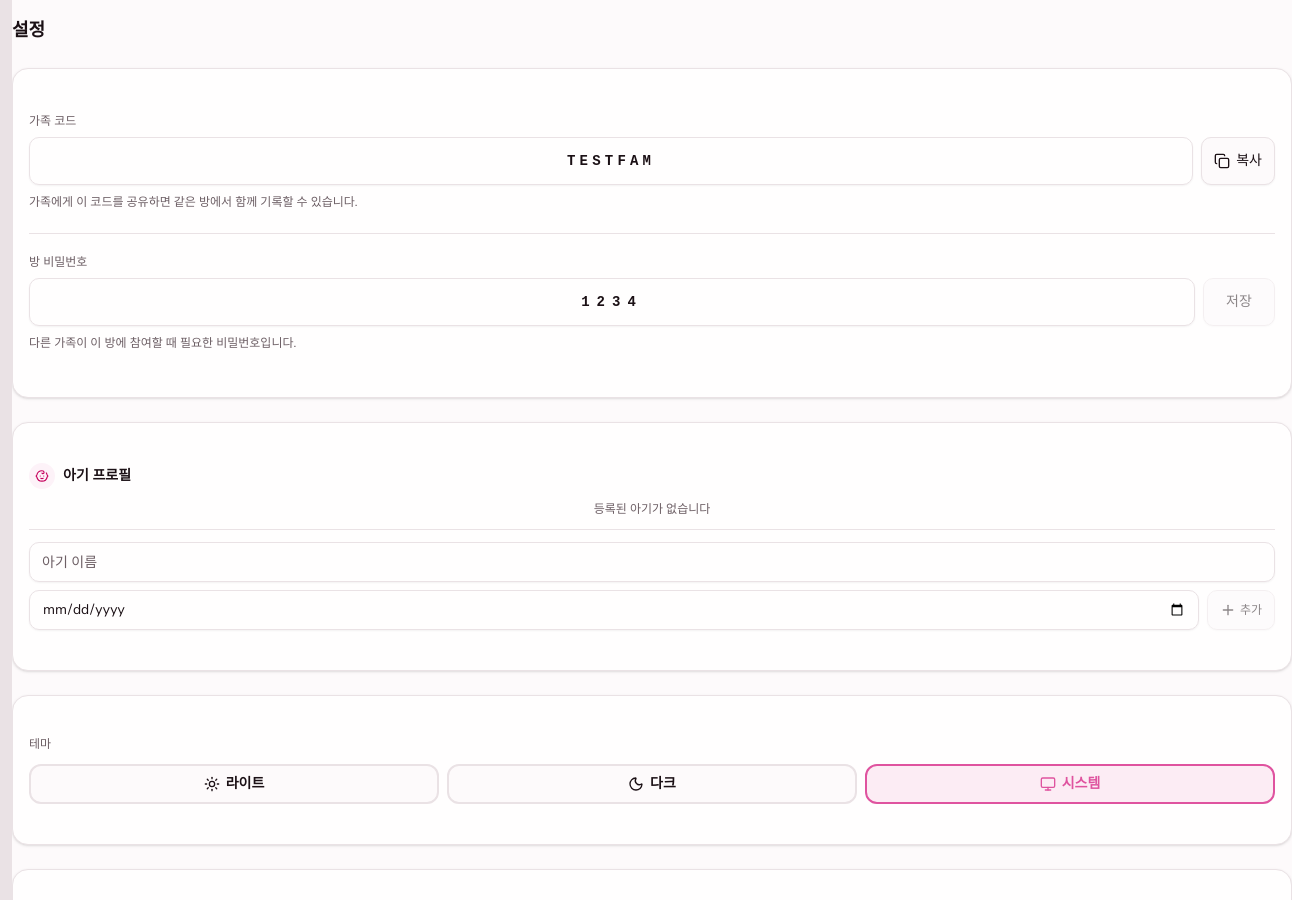
Test: SettingsPage › password save button is enabled when password changes
Replace the text in the field showing "1234" with "5678" at (612, 302), box [29,278,1195,326]
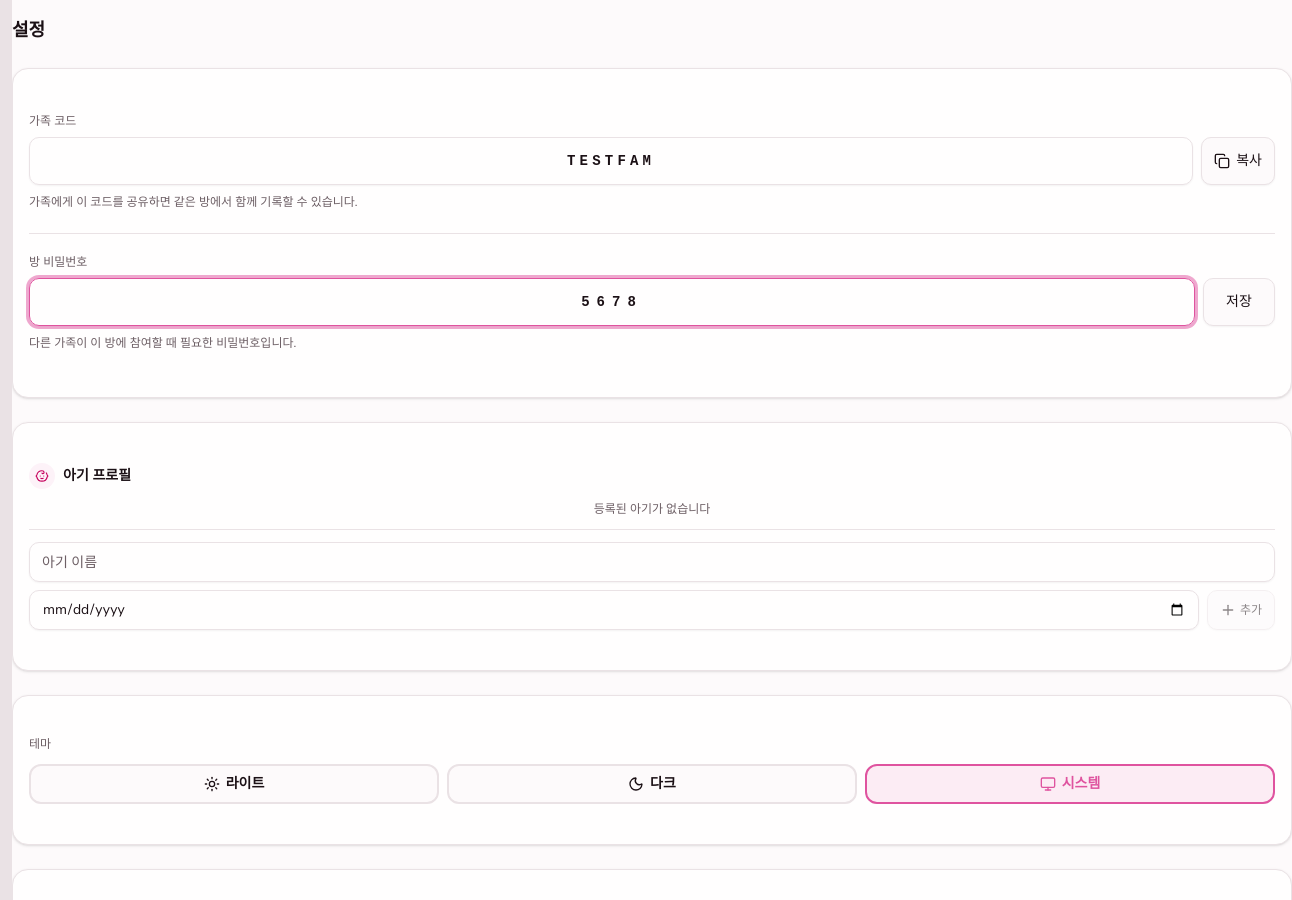
Expected: the button "저장" is enabled, [1203,278,1275,326]
